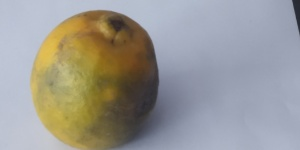BAD: (31, 8, 158, 150)
